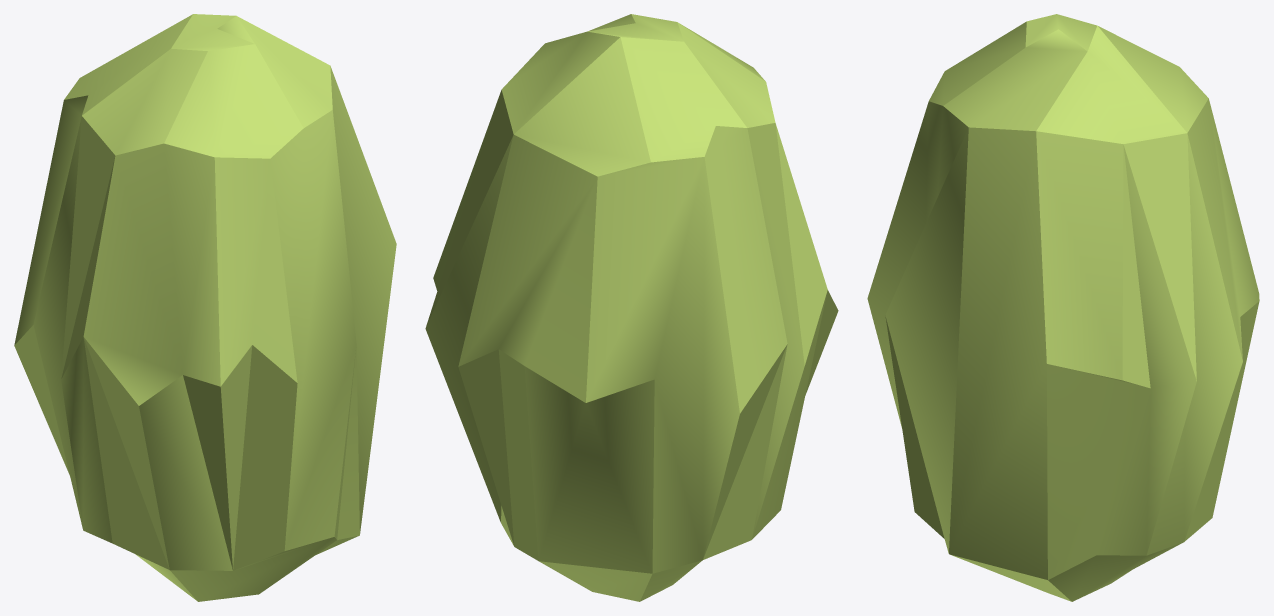
Rendered from Cactus1_Culled.fbx.
3 views of the same model, side by side, from view 1: azimuth 30°, elevation 25°; view 2: azimuth 150°, elevation 25°; view 3: azimuth 270°, elevation 25° (orthographic).
Parts seen in each view (by area): view 1: CactusCulled; view 2: CactusCulled; view 3: CactusCulled.
Part boxes in pixels (x1,y1,x2,y2): CactusCulled: (14, 14, 396, 601); CactusCulled: (425, 14, 838, 601); CactusCulled: (867, 14, 1259, 601).
Bounding box in the file's own units: 33.51 × 52.89 × 33.68.
